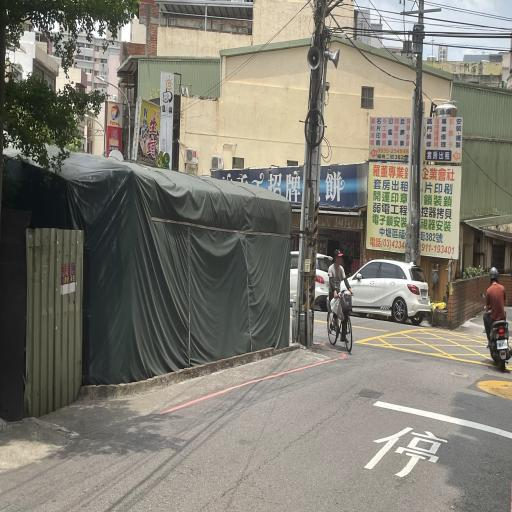redline: (153, 348, 351, 426)
